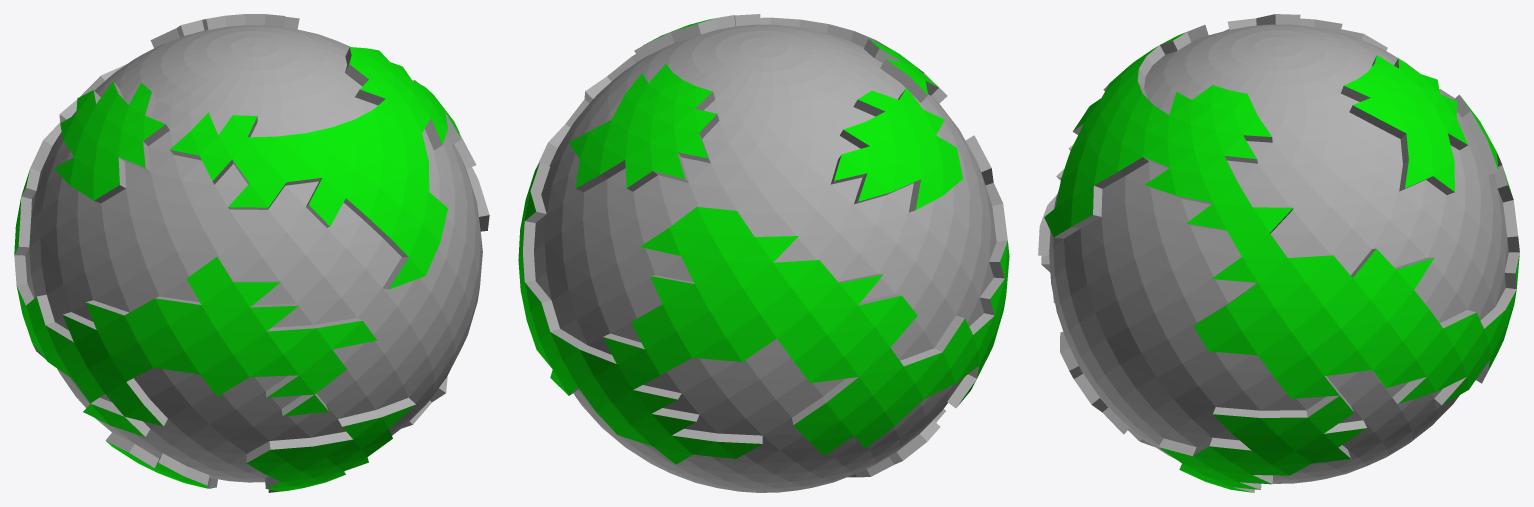
File: planet1.fbx
3 renders of one model, left to right at view 1: azimuth 30°, elevation 25°; view 2: azimuth 150°, elevation 25°; view 3: azimuth 270°, elevation 25°, orthographic. The views are drawn at different scales.
Visible parts, largest first — view 1: pSphere1; view 2: pSphere1; view 3: pSphere1.
Boxes of the visible parts, x1,y1,x2,y2 form: pSphere1: (14,14,489,492); pSphere1: (518,14,1009,492); pSphere1: (1038,14,1519,492).
Bounding box in the file's own units: 4.78 × 4.58 × 4.79.
